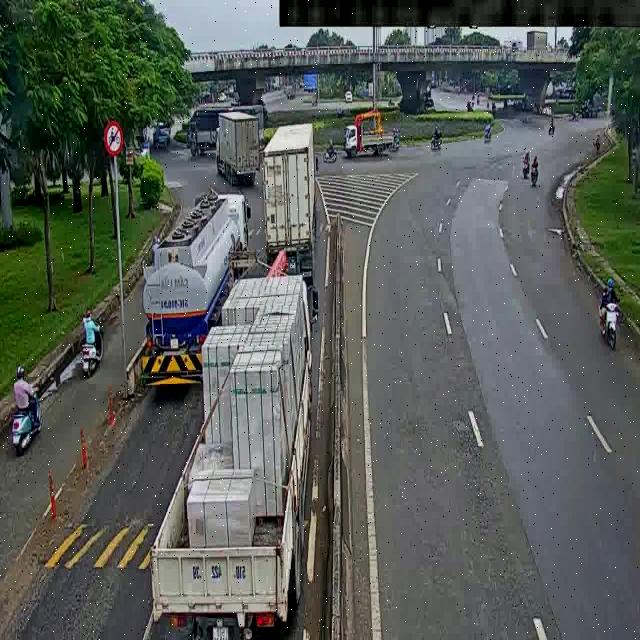motorbike: (5, 367, 51, 463), (69, 299, 119, 376), (588, 265, 622, 344), (527, 152, 554, 199), (585, 130, 608, 159), (514, 147, 530, 182), (478, 124, 497, 149), (324, 143, 346, 164), (429, 127, 448, 144), (546, 116, 560, 134)
truck: (207, 251, 324, 640), (134, 176, 250, 382), (255, 120, 325, 265), (174, 107, 283, 155), (213, 113, 263, 191), (339, 104, 405, 161)
